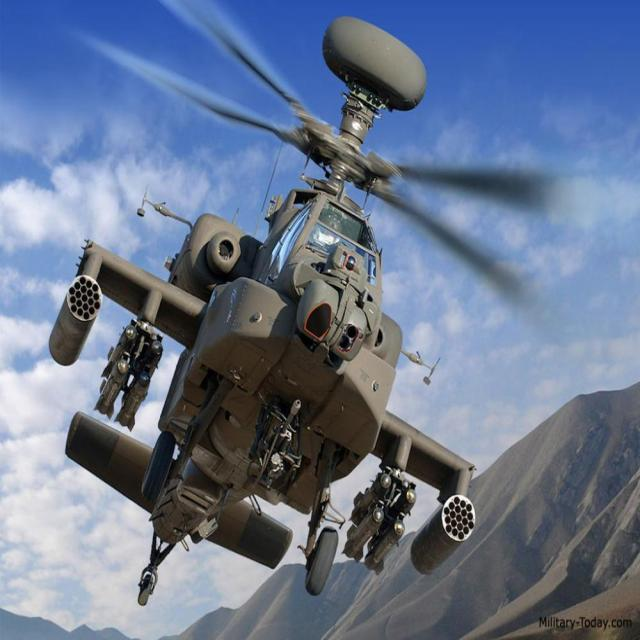MIL_HELO: (12, 0, 547, 608)
